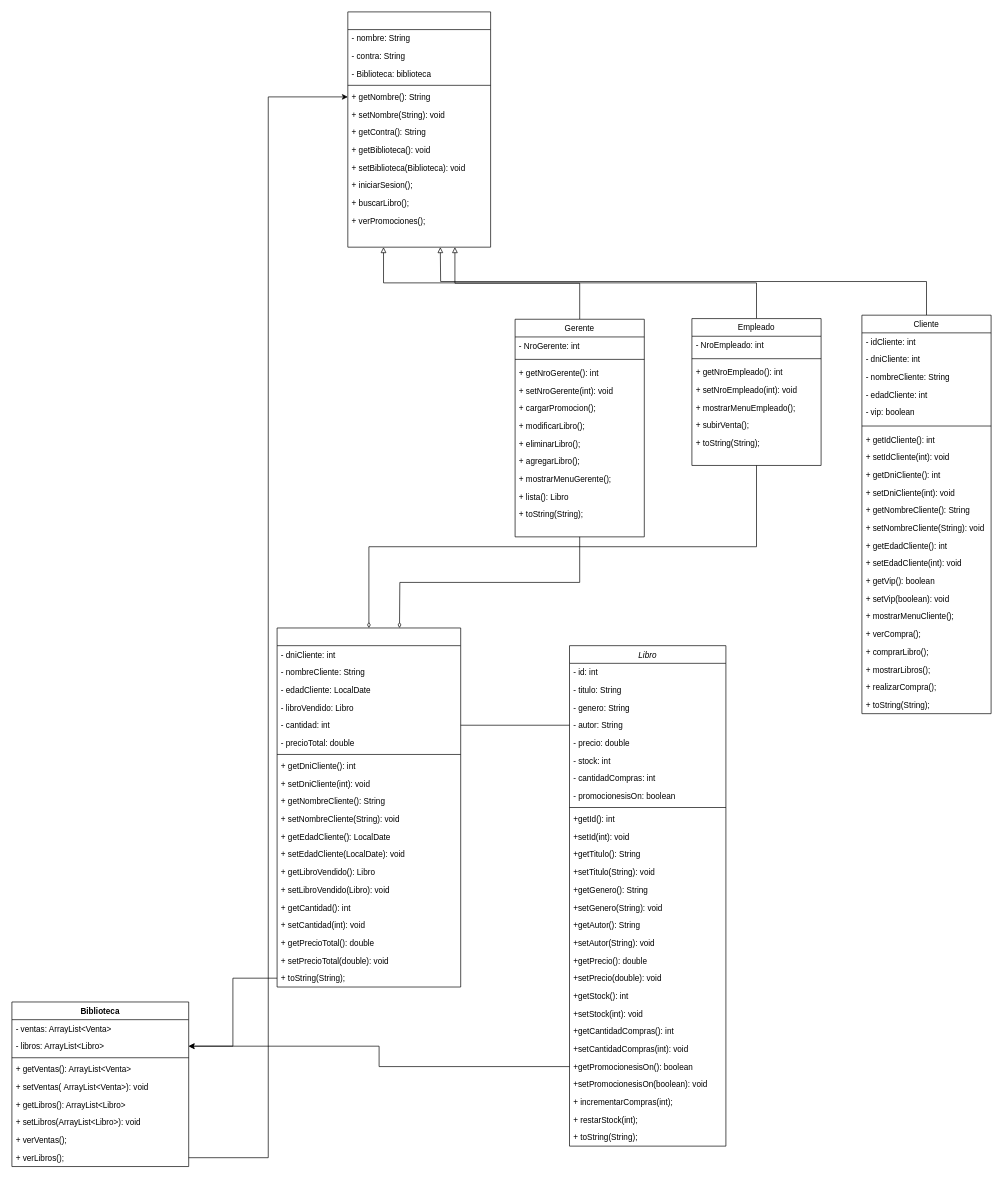
This 1003x1180 diagram has some shape labels left out. The box of each missing label's shape, as (x1, y1, x2, y2) in pixels:
Usuario: (347, 11, 491, 247)
Venta: (276, 627, 461, 987)
